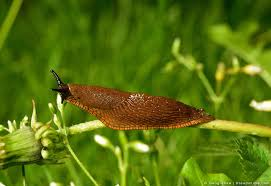slug: (52, 70, 216, 131)
